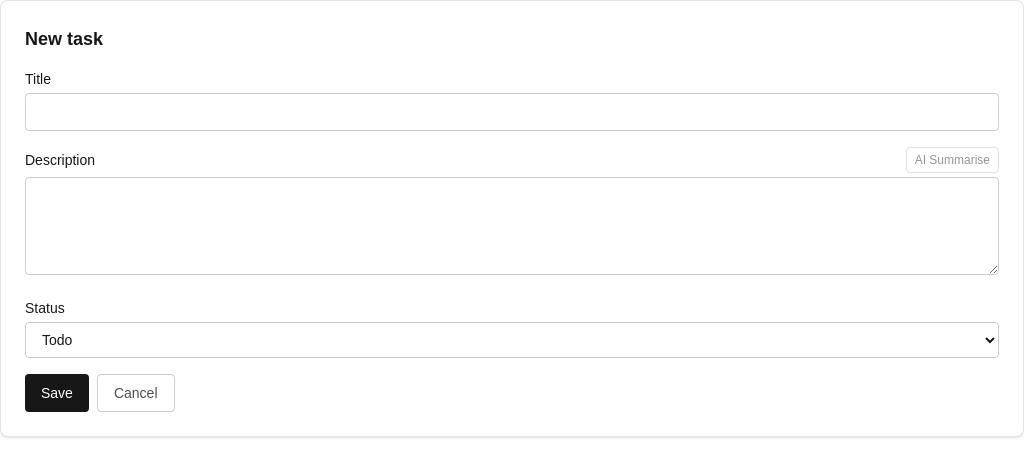
Test: TaskForm › fills the description with the AI-generated summary on success
In the field labelled "Title": (512, 112) [25, 93, 999, 131], type "Buy groceries"
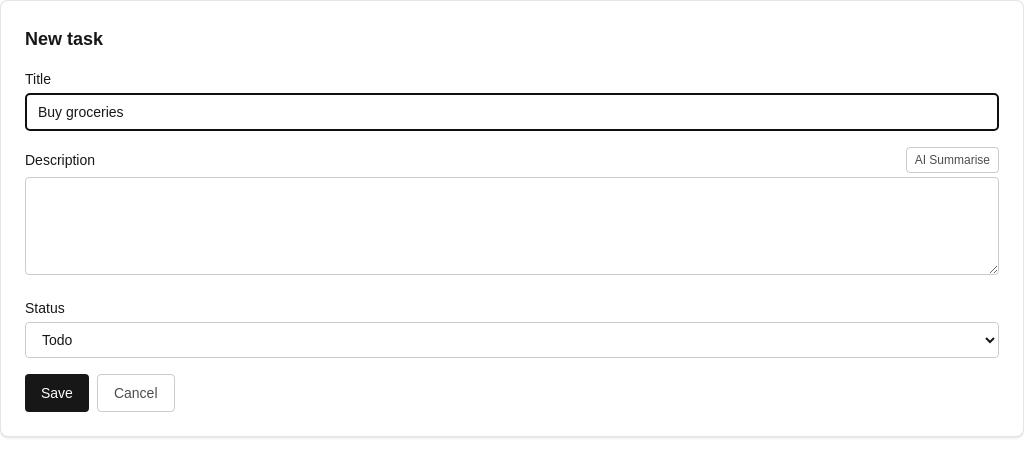
Click the button "AI Summarise": (952, 160) [906, 147, 999, 173]
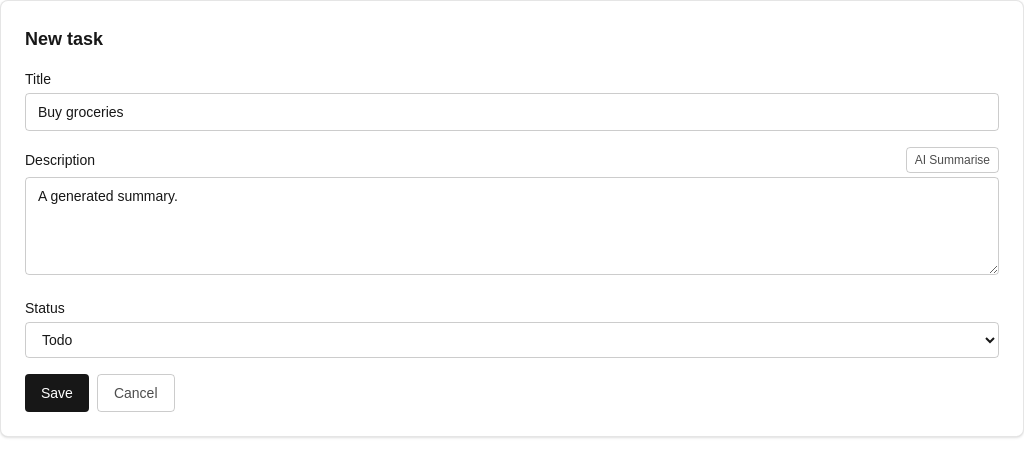
Expected: the text box labelled "Description" holds "A generated summary.", [25, 177, 999, 275]
